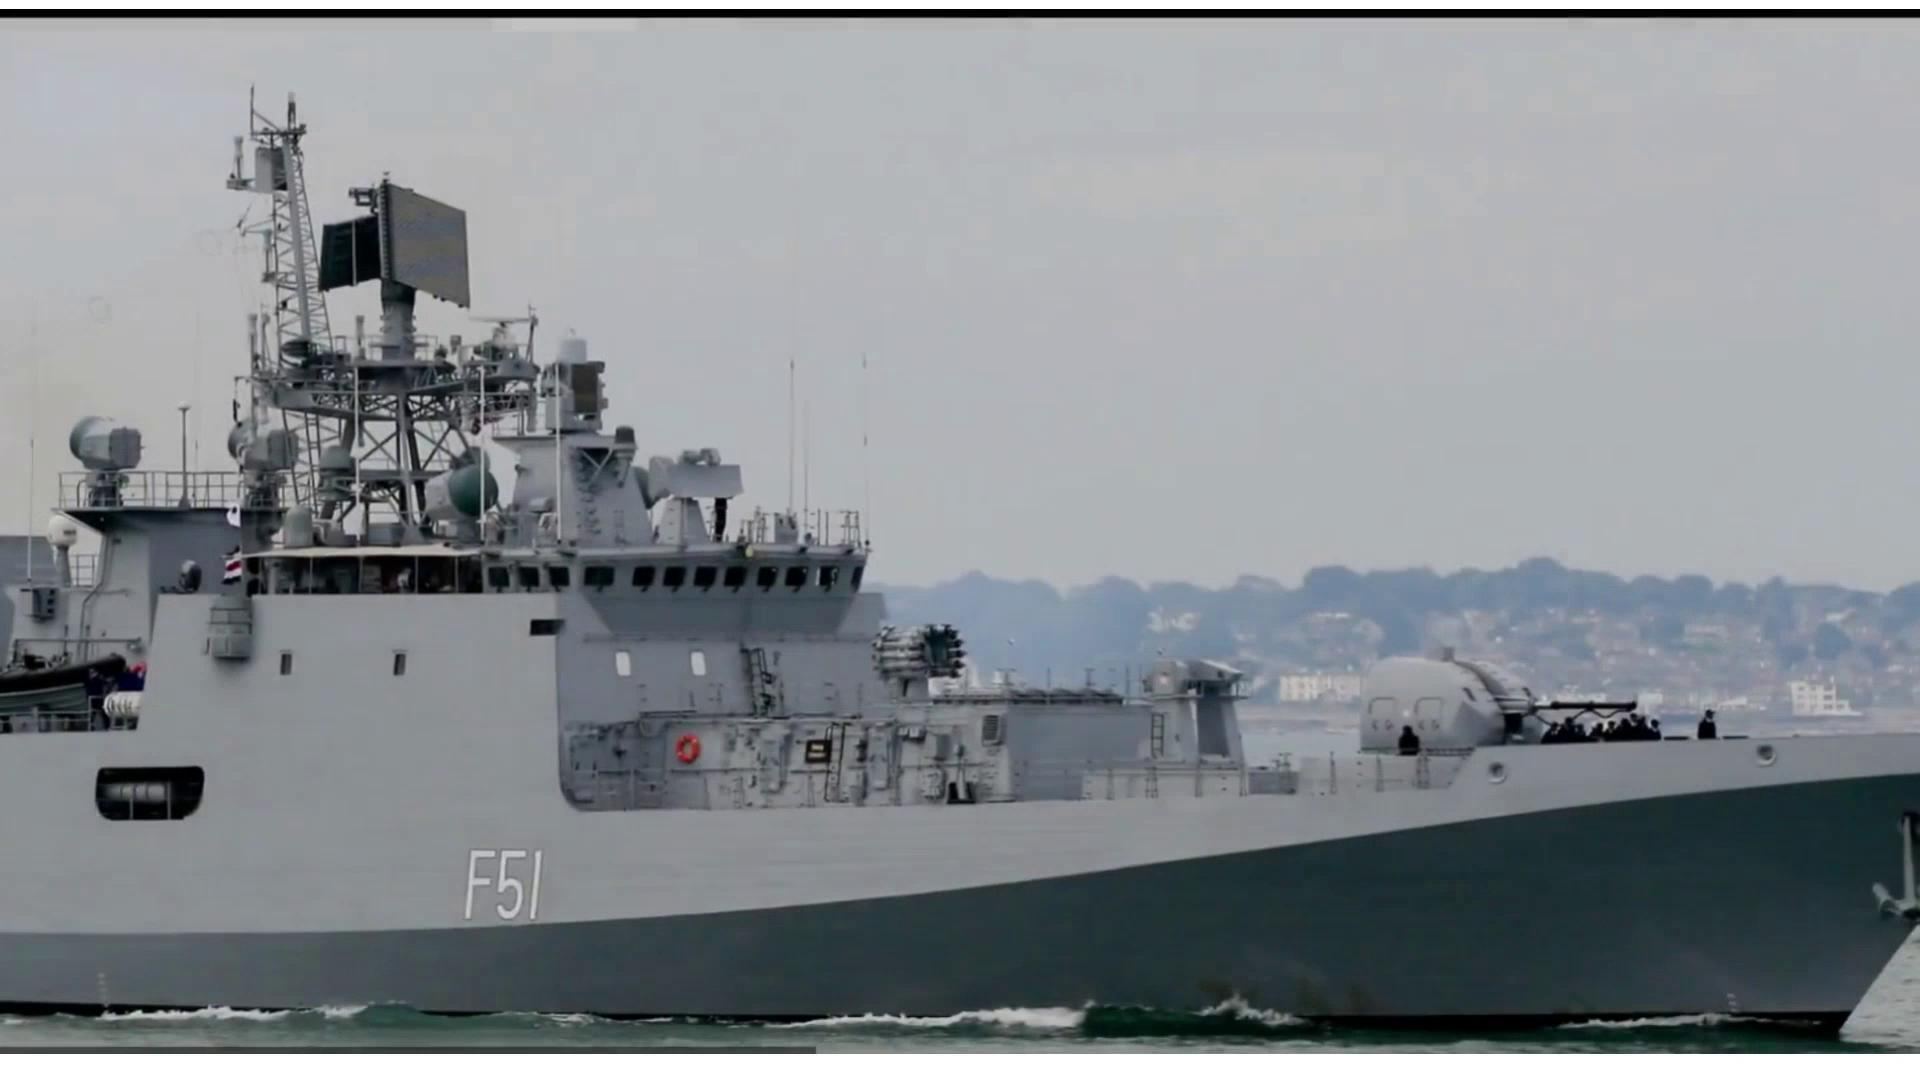OCR: (454, 844, 556, 934)
